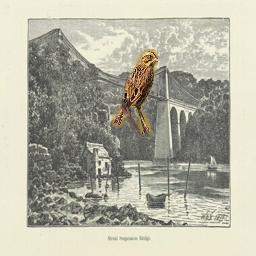Sparrow: (112, 49, 158, 137)
